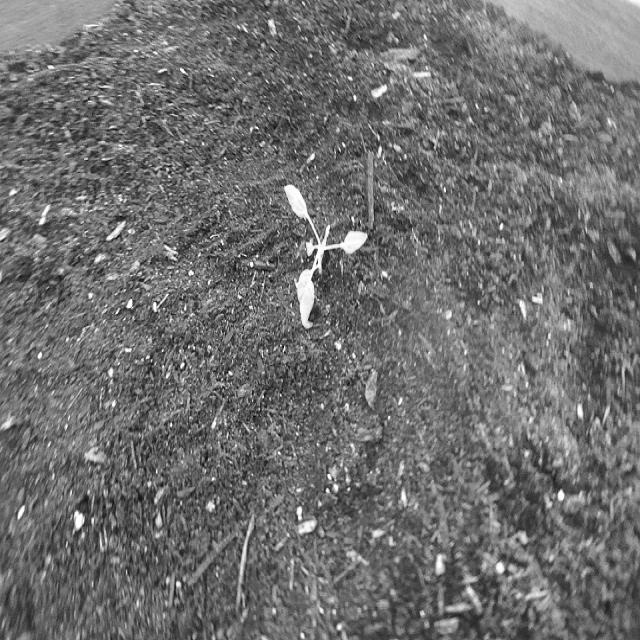Healthy: (274, 168, 377, 344)
